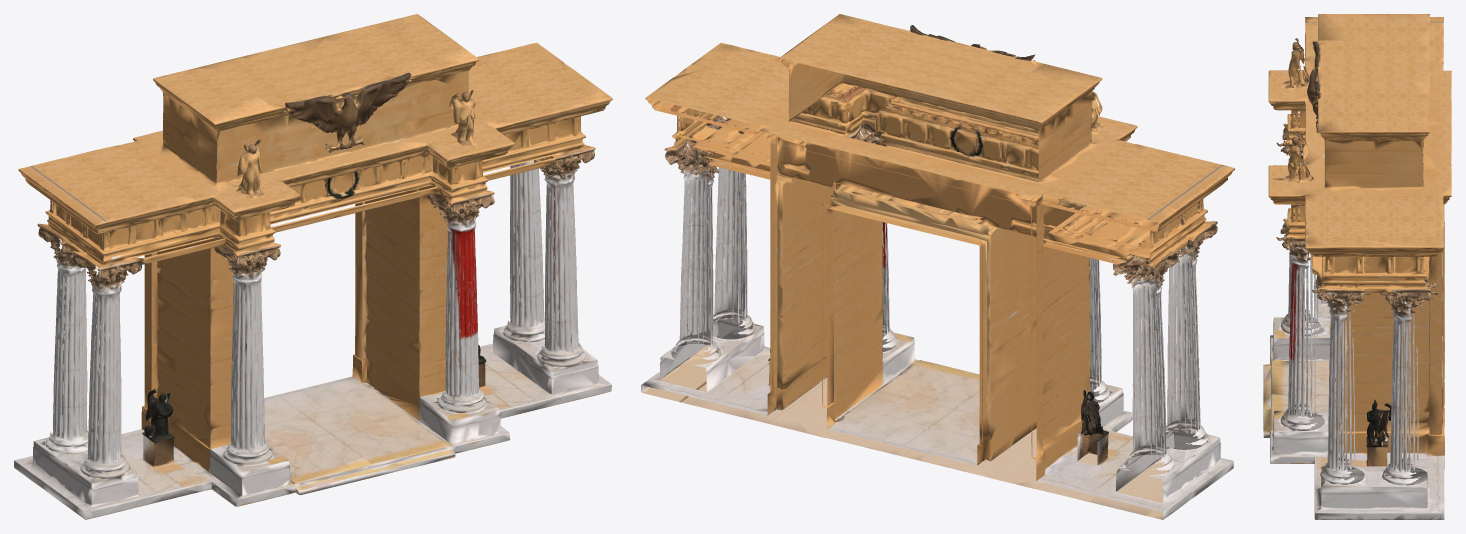
The model's file is forum_gate.glb.
3 views of the same model, side by side, from view 1: azimuth 30°, elevation 25°; view 2: azimuth 150°, elevation 25°; view 3: azimuth 270°, elevation 25° (orthographic). The views are drawn at different scales.
Bounding box in the file's own units: 1.9 × 1.27 × 0.6487.
Materials: 1 (1 with a texture image).
